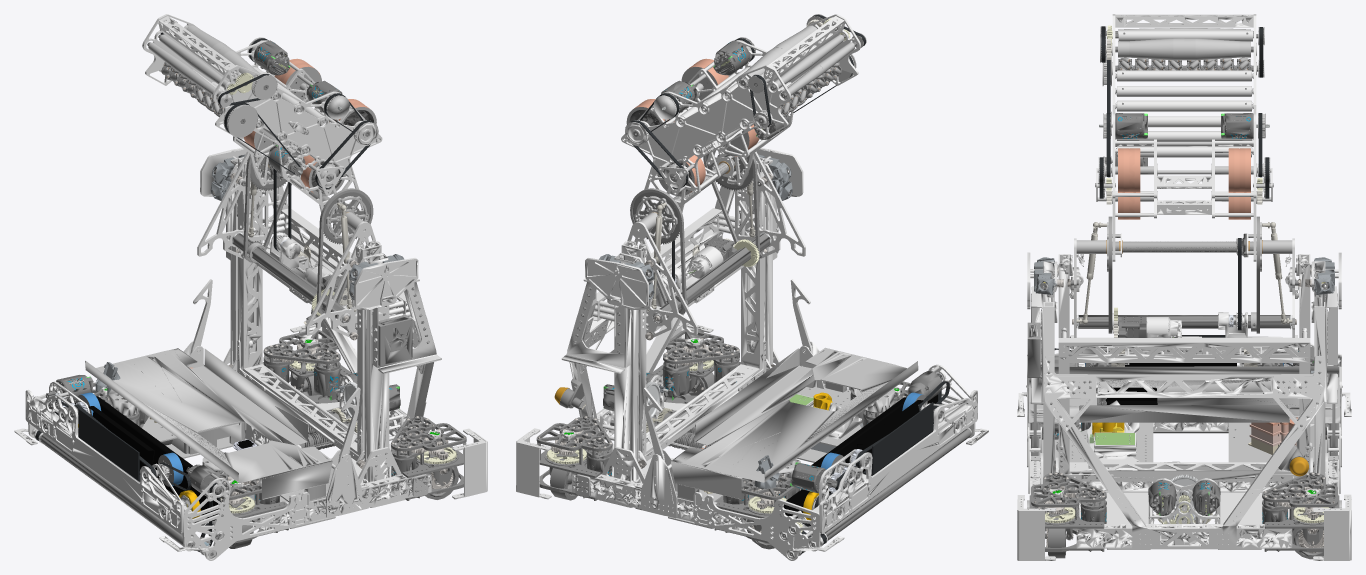
The model's file is roti-5940.glb.
3 views of the same model, side by side, from view 1: azimuth 30°, elevation 25°; view 2: azimuth 150°, elevation 25°; view 3: azimuth 270°, elevation 25° (orthographic).
Visible parts, largest first — view 1: frame, shooter, intake, carriage, elevator-stage; view 2: frame, shooter, intake, carriage, elevator-stage; view 3: frame, shooter, elevator-stage, carriage, intake.
Part boxes in pixels (x1,y1,x2,y2): frame: [14, 148, 487, 552]; shooter: [142, 14, 382, 232]; intake: [25, 375, 309, 560]; carriage: [197, 151, 375, 340]; elevator-stage: [228, 157, 410, 468]; frame: [516, 148, 988, 552]; shooter: [621, 14, 866, 232]; intake: [693, 364, 977, 560]; carriage: [627, 150, 805, 340]; elevator-stage: [592, 157, 774, 468]; frame: [1017, 252, 1351, 560]; shooter: [1095, 14, 1273, 261]; elevator-stage: [1054, 254, 1314, 481]; carriage: [1067, 216, 1301, 366]; intake: [1026, 335, 1342, 467].
Bounding box in the file's own units: 0.8316 × 1.16 × 0.7683.
